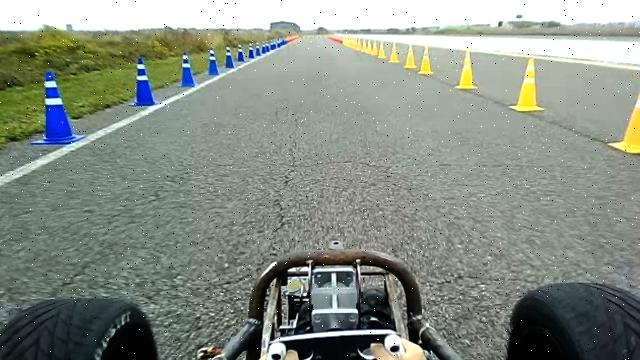blue cone: (30, 70, 85, 145), (129, 56, 156, 106), (177, 51, 196, 87), (207, 47, 220, 76), (224, 45, 235, 69), (237, 43, 246, 62), (248, 42, 255, 58), (254, 41, 261, 57)
yellow cone: (606, 74, 640, 154), (509, 56, 545, 112), (454, 50, 477, 90), (418, 45, 433, 75), (404, 44, 416, 69), (388, 42, 399, 64), (370, 38, 380, 56), (378, 39, 386, 58), (366, 38, 373, 55)
